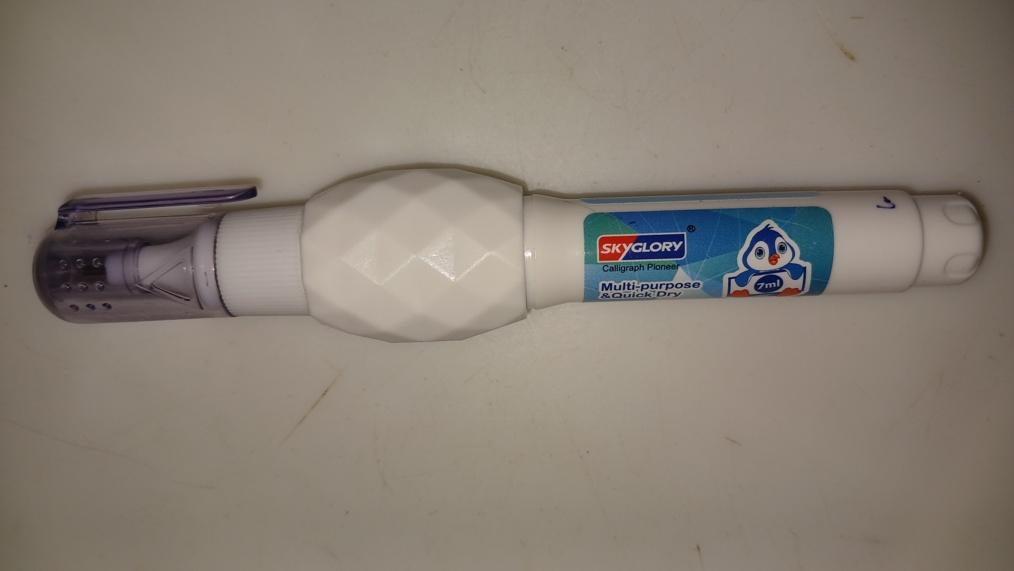Correction pen: (28, 164, 999, 345)
